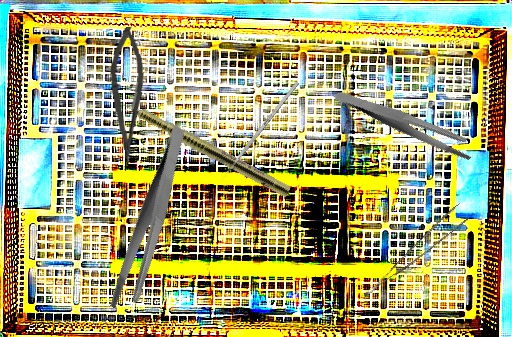Dressing Forceps: (72, 125, 230, 317), (332, 58, 479, 188)
Handpiece: (103, 87, 293, 199)
Micro Scissor: (108, 26, 148, 159)
Pusher: (218, 81, 300, 183)
Tissue Forceps: (351, 203, 474, 297)
